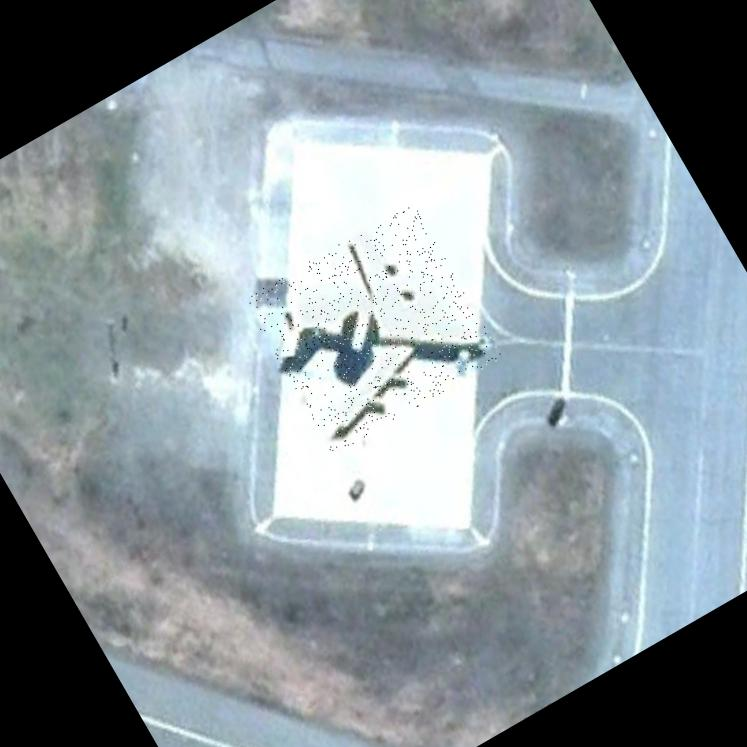A7: (242, 200, 502, 454)
